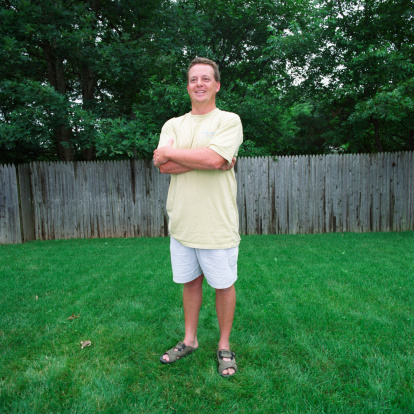em pe: (134, 50, 246, 369)
